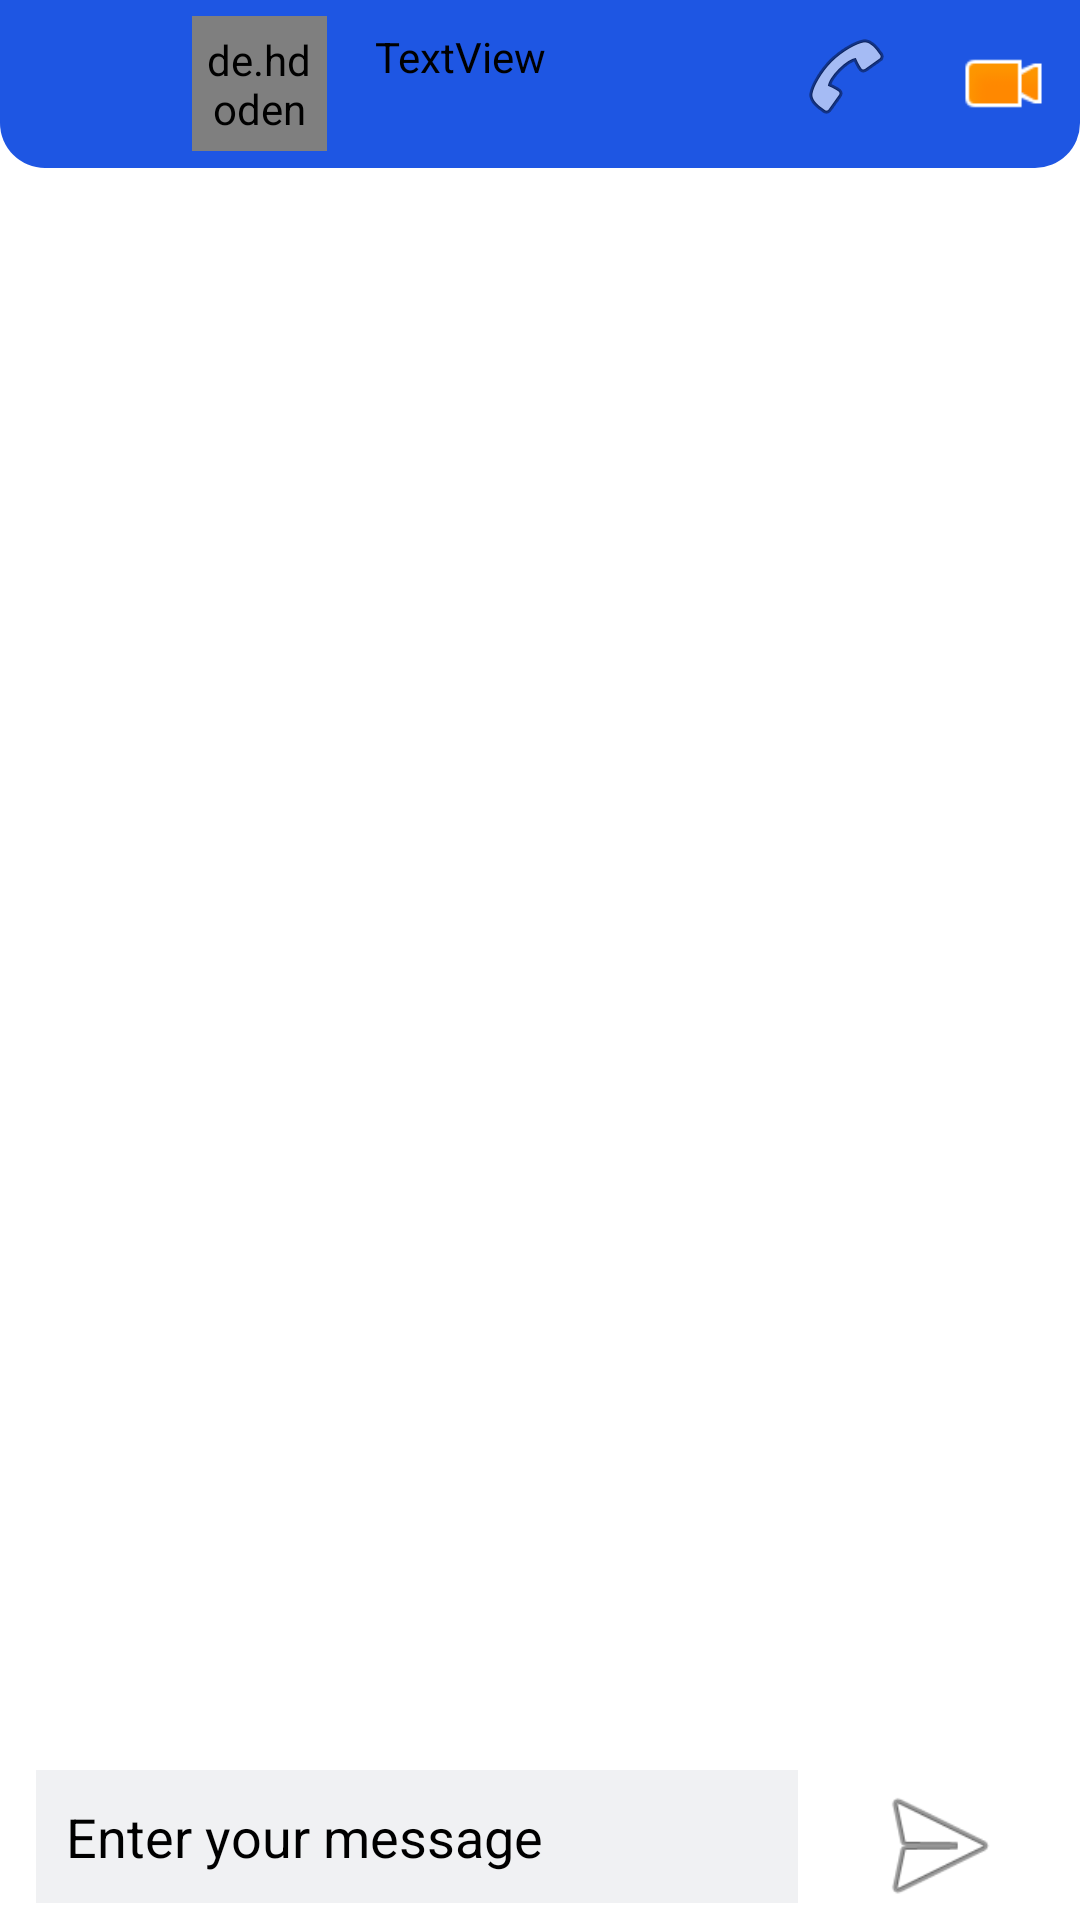

Icons on this 1080px x 1920px Android screen, each with the point to tap as [x,y]:
call: [846,76]
presence video away: [1003,83]
send: [940,1845]
